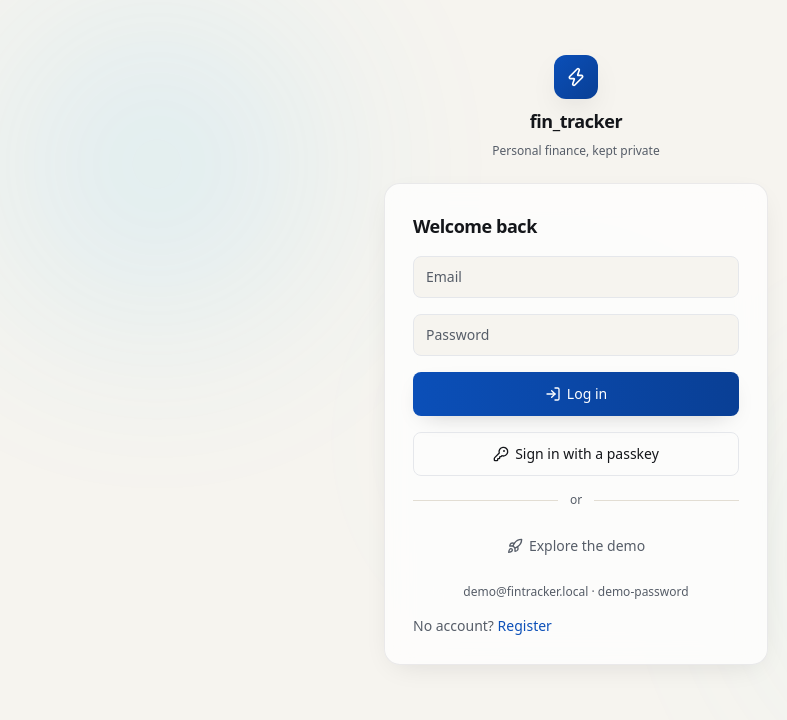
Scenario: Login — passkey entry point › shows the server's refusal plus the fallback after a rejected assertion
Click the button "Sign in with a passkey". click: [576, 454]
box: [413,432,739,476]
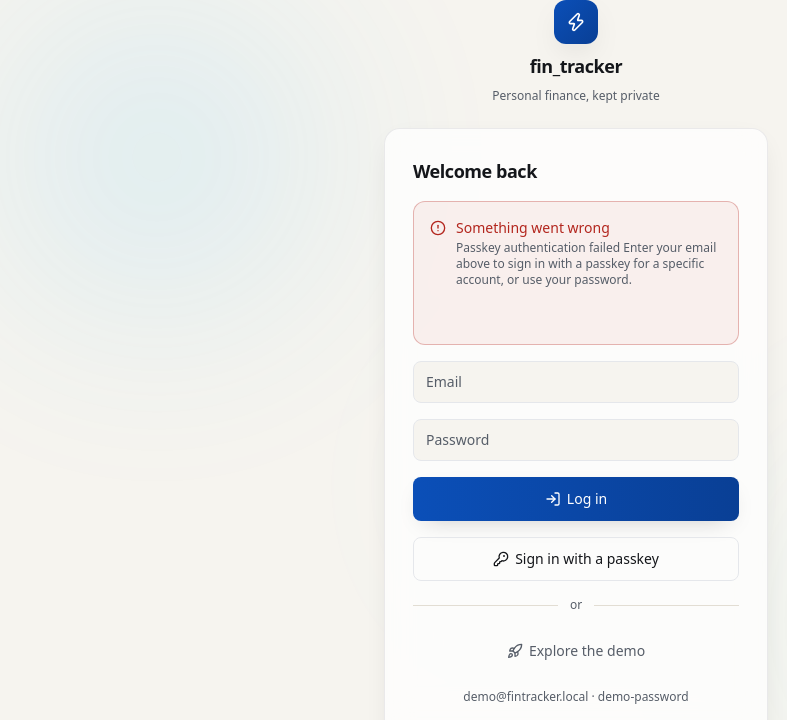
Expected: the message shows "Passkey authentication failed", [456,239,716,288]
Expected: the message shows "use your password", [456,239,716,288]
